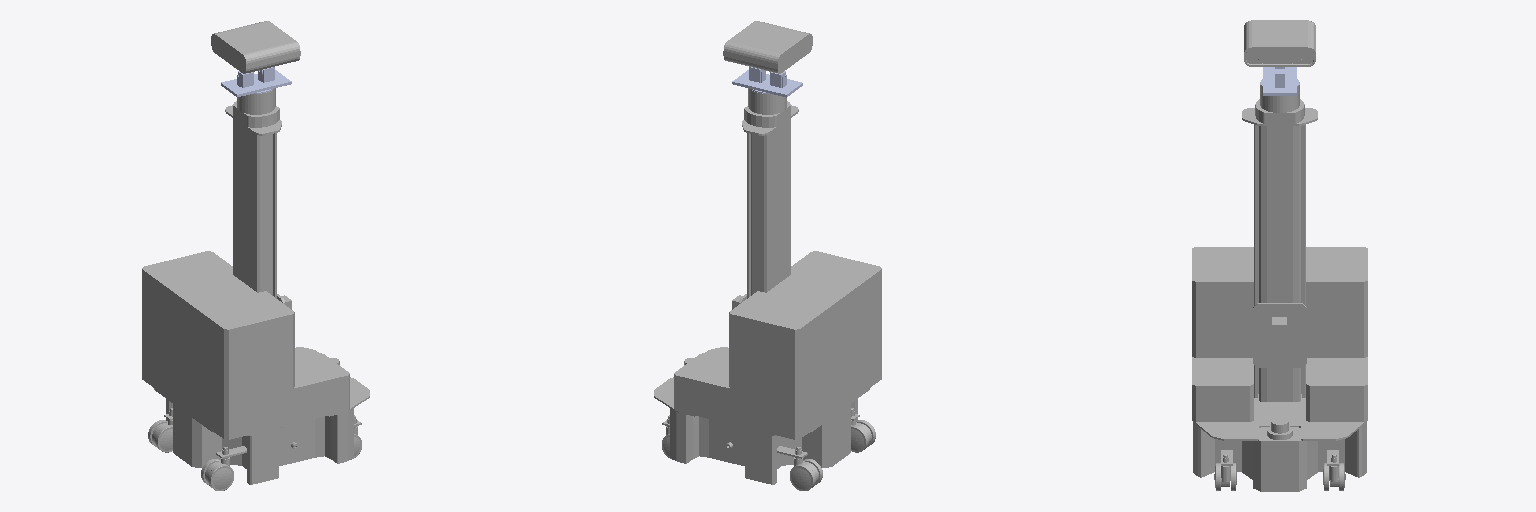
robot.urdf — MOMA_V3_URDF:
<?xml version="1.0" encoding="utf-8"?>
<!-- This URDF was automatically created by SolidWorks to URDF Exporter! Originally created by [author] ([email redacted]) 
     Commit Version: 1.5.1-0-g916b5db  Build Version: 1.5.7152.31018
     For more information, please see http://wiki.ros.org/sw_urdf_exporter -->
<robot
  name="MOMA_V3_URDF">
  <link
    name="moma_base_link">
    <inertial>
      <origin
        xyz="-0.0697248975605124 9.35986032827709E-05 0.185981353903013"
        rpy="0 0 0" />
      <mass
        value="64.9999523677222" />
      <inertia
        ixx="1.35069488959022"
        ixy="0.000479754719690261"
        ixz="1.48197273532436E-06"
        iyy="0.963094057696193"
        iyz="-7.03349014735604E-06"
        izz="1.34062606564175" />
    </inertial>
    <visual>
      <origin
        xyz="0 0 0"
        rpy="0 0 0" />
      <geometry>
        <mesh
          filename="package://minnav_moma_description/meshes/v3/moma_base_link.STL" />
      </geometry>
      <material
        name="">
        <color
          rgba="0.752941176470588 0.752941176470588 0.752941176470588 1" />
      </material>
    </visual>
    <collision>
      <origin
        xyz="0 0 0"
        rpy="0 0 0" />
      <geometry>
        <mesh
          filename="package://minnav_moma_description/meshes/v3/moma_base_link.STL" />
      </geometry>
    </collision>
  </link>
  <link
    name="ArmBase">
    <inertial>
      <origin
        xyz="0.0308551972687778 0.000943941891110974 -0.0272741114005047"
        rpy="0 0 0" />
      <mass
        value="0.713162476928903" />
      <inertia
        ixx="0.000996301117911692"
        ixy="-1.06604349141997E-06"
        ixz="6.18305224606402E-05"
        iyy="0.00152386550417795"
        iyz="8.35547600892191E-07"
        izz="0.00220534830451125" />
    </inertial>
    <visual>
      <origin
        xyz="0 0 0"
        rpy="0 0 0" />
      <geometry>
        <mesh
          filename="package://minnav_moma_description/meshes/v3/ArmBase.STL" />
      </geometry>
      <material
        name="">
        <color
          rgba="0.752941176470588 0.752941176470588 0.752941176470588 1" />
      </material>
    </visual>
    <collision>
      <origin
        xyz="0 0 0"
        rpy="0 0 0" />
      <geometry>
        <mesh
          filename="package://minnav_moma_description/meshes/v3/ArmBase.STL" />
      </geometry>
    </collision>
  </link>
  <joint
    name="JT_ArmBase"
    type="prismatic">
    <origin
      xyz="0.034 -0.001 0.33335"
      rpy="0 1.5708 0" />
    <parent
      link="moma_base_link" />
    <child
      link="ArmBase" />
    <axis
      xyz="-1 0 0" />
    <limit
      lower="0"
      upper="0.49"
      effort="0"
      velocity="0" />
  </joint>
  <link
    name="LIDAR">
    <inertial>
      <origin
        xyz="8.22216969754985E-05 0.0193654420160331 3.42716239184634E-09"
        rpy="0 0 0" />
      <mass
        value="0.102883853456169" />
      <inertia
        ixx="3.66225482144748E-05"
        ixy="1.05874120317964E-07"
        ixz="-3.58548250047766E-12"
        iyy="4.69758377443588E-05"
        iyz="-6.02604708198514E-13"
        izz="3.69805831442244E-05" />
    </inertial>
    <visual>
      <origin
        xyz="0 0 0"
        rpy="0 0 0" />
      <geometry>
        <mesh
          filename="package://minnav_moma_description/meshes/v3/LIDAR.STL" />
      </geometry>
      <material
        name="">
        <color
          rgba="0.752941176470588 0.752941176470588 0.752941176470588 1" />
      </material>
    </visual>
    <collision>
      <origin
        xyz="0 0 0"
        rpy="0 0 0" />
      <geometry>
        <mesh
          filename="package://minnav_moma_description/meshes/v3/LIDAR.STL" />
      </geometry>
    </collision>
  </link>
  <joint
    name="JT_LIDAR"
    type="fixed">
    <origin
      xyz="0.213 0 0.0905"
      rpy="1.5708 0 3.1416" />
    <parent
      link="moma_base_link" />
    <child
      link="LIDAR" />
    <axis
      xyz="0 0 0" />
  </joint>
  <link
    name="Pantilt_PanLink">
    <inertial>
      <origin
        xyz="9.46734950619818E-13 -6.93889390390723E-18 0.0222694936250953"
        rpy="0 0 0" />
      <mass
        value="0.125638006386443" />
      <inertia
        ixx="5.79840369760151E-05"
        ixy="-4.95095367264464E-09"
        ixz="1.2645288871398E-16"
        iyy="0.000158965664023198"
        iyz="1.00825085563714E-19"
        izz="0.000150893790612493" />
    </inertial>
    <visual>
      <origin
        xyz="0 0 0"
        rpy="0 0 0" />
      <geometry>
        <mesh
          filename="package://minnav_moma_description/meshes/v3/Pantilt_PanLink.STL" />
      </geometry>
      <material
        name="">
        <color
          rgba="0.796078431372549 0.823529411764706 0.937254901960784 1" />
      </material>
    </visual>
    <collision>
      <origin
        xyz="0 0 0"
        rpy="0 0 0" />
      <geometry>
        <mesh
          filename="package://minnav_moma_description/meshes/v3/Pantilt_PanLink.STL" />
      </geometry>
    </collision>
  </link>
  <joint
    name="JT_Pantilt_PanLink"
    type="continuous">
    <origin
      xyz="-0.021 0 1.0081"
      rpy="0 0 -1.5708" />
    <parent
      link="moma_base_link" />
    <child
      link="Pantilt_PanLink" />
    <axis
      xyz="0 0 1" />
  </joint>
  <link
    name="Pantilt_TiltLink">
    <inertial>
      <origin
        xyz="-1.01514245288246E-12 0.0313298843333751 1.19935311682084E-13"
        rpy="0 0 0" />
      <mass
        value="0.119003363420873" />
      <inertia
        ixx="7.90464190146044E-05"
        ixy="-3.7930308239447E-16"
        ixz="7.25178903267415E-19"
        iyy="0.000357984480289441"
        iyz="2.37464872755947E-16"
        izz="0.000282844133831591" />
    </inertial>
    <visual>
      <origin
        xyz="0 0 0"
        rpy="0 0 0" />
      <geometry>
        <mesh
          filename="package://minnav_moma_description/meshes/v3/Pantilt_TiltLink.STL" />
      </geometry>
      <material
        name="">
        <color
          rgba="0.796078431372549 0.823529411764706 0.937254901960784 1" />
      </material>
    </visual>
    <collision>
      <origin
        xyz="0 0 0"
        rpy="0 0 0" />
      <geometry>
        <mesh
          filename="package://minnav_moma_description/meshes/v3/Pantilt_TiltLink.STL" />
      </geometry>
    </collision>
  </link>
  <joint
    name="JT_Pantilt_TiltLink"
    type="continuous">
    <origin
      xyz="0 0.00025 0.0413"
      rpy="1.5708 0 3.1416" />
    <parent
      link="Pantilt_PanLink" />
    <child
      link="Pantilt_TiltLink" />
    <axis
      xyz="1 0 0" />
  </joint>
  <link
    name="Head">
    <inertial>
      <origin
        xyz="7.0065988965367E-06 -0.00259242159541651 -0.0752179059112314"
        rpy="0 0 0" />
      <mass
        value="0.398951265503435" />
      <inertia
        ixx="0.00086001336503175"
        ixy="-2.54365366746701E-08"
        ixz="1.01054446801158E-07"
        iyy="0.00182747472860193"
        iyz="5.23240564256016E-06"
        izz="0.00128462467137371" />
    </inertial>
    <visual>
      <origin
        xyz="0 0 0"
        rpy="0 0 0" />
      <geometry>
        <mesh
          filename="package://minnav_moma_description/meshes/v3/Head.STL" />
      </geometry>
      <material
        name="">
        <color
          rgba="0.752941176470588 0.752941176470588 0.752941176470588 1" />
      </material>
    </visual>
    <collision>
      <origin
        xyz="0 0 0"
        rpy="0 0 0" />
      <geometry>
        <mesh
          filename="package://minnav_moma_description/meshes/v3/Head.STL" />
      </geometry>
    </collision>
  </link>
  <joint
    name="JT_Head"
    type="fixed">
    <origin
      xyz="0 0.0705 0.0795"
      rpy="0 0 0" />
    <parent
      link="Pantilt_TiltLink" />
    <child
      link="Head" />
    <axis
      xyz="0 0 0" />
  </joint>
  <link
    name="UniwheelPivot_LF">
    <inertial>
      <origin
        xyz="-9.15933995315754E-16 0.0182260960322876 -0.0642291000155078"
        rpy="0 0 0" />
      <mass
        value="0.0847351495375796" />
      <inertia
        ixx="6.07135705376022E-05"
        ixy="1.38106507705782E-18"
        ixz="-6.2166420742629E-19"
        iyy="3.49474283390519E-05"
        iyz="1.16340041790674E-05"
        izz="3.34756139191196E-05" />
    </inertial>
    <visual>
      <origin
        xyz="0 0 0"
        rpy="0 0 0" />
      <geometry>
        <mesh
          filename="package://minnav_moma_description/meshes/v3/UniwheelPivot_LF.STL" />
      </geometry>
      <material
        name="">
        <color
          rgba="0.752941176470588 0.752941176470588 0.752941176470588 1" />
      </material>
    </visual>
    <collision>
      <origin
        xyz="0 0 0"
        rpy="0 0 0" />
      <geometry>
        <mesh
          filename="package://minnav_moma_description/meshes/v3/UniwheelPivot_LF.STL" />
      </geometry>
    </collision>
  </link>
  <joint
    name="JT_UniwheelPivot_LF"
    type="continuous">
    <origin
      xyz="0.2 0.1435 0.03085"
      rpy="0 0 1.5708" />
    <parent
      link="moma_base_link" />
    <child
      link="UniwheelPivot_LF" />
    <axis
      xyz="0 0 1" />
  </joint>
  <link
    name="UniWheel_LF">
    <inertial>
      <origin
        xyz="-1.68194530534294E-05 -2.14332612491486E-08 -0.000149066049960667"
        rpy="0 0 0" />
      <mass
        value="0.131455385710739" />
      <inertia
        ixx="4.67614248550021E-05"
        ixy="2.92736299193443E-11"
        ixz="-4.25507933619532E-11"
        iyy="8.85134139088377E-05"
        iyz="-1.15416487550843E-11"
        izz="4.67630636590922E-05" />
    </inertial>
    <visual>
      <origin
        xyz="0 0 0"
        rpy="0 0 0" />
      <geometry>
        <mesh
          filename="package://minnav_moma_description/meshes/v3/UniWheel_LF.STL" />
      </geometry>
      <material
        name="">
        <color
          rgba="0.752941176470588 0.752941176470588 0.752941176470588 1" />
      </material>
    </visual>
    <collision>
      <origin
        xyz="0 0 0"
        rpy="0 0 0" />
      <geometry>
        <mesh
          filename="package://minnav_moma_description/meshes/v3/UniWheel_LF.STL" />
      </geometry>
    </collision>
  </link>
  <joint
    name="JT_UniWheel_LF"
    type="continuous">
    <origin
      xyz="0 0.024 -0.07735"
      rpy="0 -0.11262 1.5708" />
    <parent
      link="UniwheelPivot_LF" />
    <child
      link="UniWheel_LF" />
    <axis
      xyz="0 1 0" />
  </joint>
  <link
    name="UniwheelPivot_RB">
    <inertial>
      <origin
        xyz="-9.71445146547012E-16 0.0182260960322876 -0.0642291000155078"
        rpy="0 0 0" />
      <mass
        value="0.0847351495375797" />
      <inertia
        ixx="6.07135705376022E-05"
        ixy="1.38480813148397E-18"
        ixz="-6.24596709306388E-19"
        iyy="3.4947428339052E-05"
        iyz="1.16340041790674E-05"
        izz="3.34756139191196E-05" />
    </inertial>
    <visual>
      <origin
        xyz="0 0 0"
        rpy="0 0 0" />
      <geometry>
        <mesh
          filename="package://minnav_moma_description/meshes/v3/UniwheelPivot_RB.STL" />
      </geometry>
      <material
        name="">
        <color
          rgba="0.752941176470588 0.752941176470588 0.752941176470588 1" />
      </material>
    </visual>
    <collision>
      <origin
        xyz="0 0 0"
        rpy="0 0 0" />
      <geometry>
        <mesh
          filename="package://minnav_moma_description/meshes/v3/UniwheelPivot_RB.STL" />
      </geometry>
    </collision>
  </link>
  <joint
    name="JT_UniwheelPivot_RB"
    type="continuous">
    <origin
      xyz="-0.2 -0.1435 0.03085"
      rpy="0 0 1.5708" />
    <parent
      link="moma_base_link" />
    <child
      link="UniwheelPivot_RB" />
    <axis
      xyz="0 0 1" />
  </joint>
  <link
    name="Uniwheel_RB">
    <inertial>
      <origin
        xyz="-1.68194530534294E-05 -2.14332611658818E-08 -0.000149066049960678"
        rpy="0 0 0" />
      <mass
        value="0.131455385710739" />
      <inertia
        ixx="4.67614248550014E-05"
        ixy="2.92736298994454E-11"
        ixz="-4.25507933348482E-11"
        iyy="8.85134139088376E-05"
        iyz="-1.15416487597378E-11"
        izz="4.67630636590914E-05" />
    </inertial>
    <visual>
      <origin
        xyz="0 0 0"
        rpy="0 0 0" />
      <geometry>
        <mesh
          filename="package://minnav_moma_description/meshes/v3/Uniwheel_RB.STL" />
      </geometry>
      <material
        name="">
        <color
          rgba="0.752941176470588 0.752941176470588 0.752941176470588 1" />
      </material>
    </visual>
    <collision>
      <origin
        xyz="0 0 0"
        rpy="0 0 0" />
      <geometry>
        <mesh
          filename="package://minnav_moma_description/meshes/v3/Uniwheel_RB.STL" />
      </geometry>
    </collision>
  </link>
  <joint
    name="JT_Uniwheel_RB"
    type="continuous">
    <origin
      xyz="0 0.024 -0.07735"
      rpy="0 -0.11262 1.5708" />
    <parent
      link="UniwheelPivot_RB" />
    <child
      link="Uniwheel_RB" />
    <axis
      xyz="0 1 0" />
  </joint>
  <link
    name="UniwheelPivot_RF">
    <inertial>
      <origin
        xyz="-9.43689570931383E-16 0.0182260960322876 -0.0642291000155078"
        rpy="0 0 0" />
      <mass
        value="0.0847351495375797" />
      <inertia
        ixx="6.07135705376022E-05"
        ixy="1.38743110380241E-18"
        ixz="-6.26758647323962E-19"
        iyy="3.4947428339052E-05"
        iyz="1.16340041790674E-05"
        izz="3.34756139191196E-05" />
    </inertial>
    <visual>
      <origin
        xyz="0 0 0"
        rpy="0 0 0" />
      <geometry>
        <mesh
          filename="package://minnav_moma_description/meshes/v3/UniwheelPivot_RF.STL" />
      </geometry>
      <material
        name="">
        <color
          rgba="0.752941176470588 0.752941176470588 0.752941176470588 1" />
      </material>
    </visual>
    <collision>
      <origin
        xyz="0 0 0"
        rpy="0 0 0" />
      <geometry>
        <mesh
          filename="package://minnav_moma_description/meshes/v3/UniwheelPivot_RF.STL" />
      </geometry>
    </collision>
  </link>
  <joint
    name="JT_UniwheelPivot_RF"
    type="continuous">
    <origin
      xyz="0.2 -0.1435 0.03085"
      rpy="0 0 1.5708" />
    <parent
      link="moma_base_link" />
    <child
      link="UniwheelPivot_RF" />
    <axis
      xyz="0 0 1" />
  </joint>
  <link
    name="Uniwheel_RF">
    <inertial>
      <origin
        xyz="-1.68194530534849E-05 -2.14332612491486E-08 -0.000149066049960633"
        rpy="0 0 0" />
      <mass
        value="0.131455385710739" />
      <inertia
        ixx="4.67614248550019E-05"
        ixy="2.92736298839029E-11"
        ixz="-4.25507933712706E-11"
        iyy="8.85134139088377E-05"
        iyz="-1.15416487509904E-11"
        izz="4.67630636590919E-05" />
    </inertial>
    <visual>
      <origin
        xyz="0 0 0"
        rpy="0 0 0" />
      <geometry>
        <mesh
          filename="package://minnav_moma_description/meshes/v3/Uniwheel_RF.STL" />
      </geometry>
      <material
        name="">
        <color
          rgba="0.752941176470588 0.752941176470588 0.752941176470588 1" />
      </material>
    </visual>
    <collision>
      <origin
        xyz="0 0 0"
        rpy="0 0 0" />
      <geometry>
        <mesh
          filename="package://minnav_moma_description/meshes/v3/Uniwheel_RF.STL" />
      </geometry>
    </collision>
  </link>
  <joint
    name="JT_Uniwheel_RF"
    type="continuous">
    <origin
      xyz="0 0.024 -0.07735"
      rpy="0 -0.112621897187537 1.57079632679495" />
    <parent
      link="UniwheelPivot_RF" />
    <child
      link="Uniwheel_RF" />
    <axis
      xyz="0 1 0" />
  </joint>
  <link
    name="UniwheelPivot_LB">
    <inertial>
      <origin
        xyz="2.77555756156289E-17 0.0182260960322876 -0.0642291000155078"
        rpy="0 0 0" />
      <mass
        value="0.0847351495375796" />
      <inertia
        ixx="6.07135705376022E-05"
        ixy="3.5793788830815E-20"
        ixz="-1.45373064569161E-20"
        iyy="3.4947428339052E-05"
        iyz="1.16340041790674E-05"
        izz="3.34756139191196E-05" />
    </inertial>
    <visual>
      <origin
        xyz="0 0 0"
        rpy="0 0 0" />
      <geometry>
        <mesh
          filename="package://minnav_moma_description/meshes/v3/UniwheelPivot_LB.STL" />
      </geometry>
      <material
        name="">
        <color
          rgba="0.752941176470588 0.752941176470588 0.752941176470588 1" />
      </material>
    </visual>
    <collision>
      <origin
        xyz="0 0 0"
        rpy="0 0 0" />
      <geometry>
        <mesh
          filename="package://minnav_moma_description/meshes/v3/UniwheelPivot_LB.STL" />
      </geometry>
    </collision>
  </link>
  <joint
    name="JT_UniwheelPivot_LB"
    type="continuous">
    <origin
      xyz="-0.2 0.1435 0.03085"
      rpy="0 0 1.5708" />
    <parent
      link="moma_base_link" />
    <child
      link="UniwheelPivot_LB" />
    <axis
      xyz="0 0 1" />
  </joint>
  <link
    name="Uniwheel_LB">
    <inertial>
      <origin
        xyz="-1.68194530534849E-05 -2.1433261221393E-08 -0.000149066049960664"
        rpy="0 0 0" />
      <mass
        value="0.131455385710739" />
      <inertia
        ixx="4.67614248550014E-05"
        ixy="2.92736298993967E-11"
        ixz="-4.25507933356952E-11"
        iyy="8.85134139088376E-05"
        iyz="-1.15416487599895E-11"
        izz="4.67630636590915E-05" />
    </inertial>
    <visual>
      <origin
        xyz="0 0 0"
        rpy="0 0 0" />
      <geometry>
        <mesh
          filename="package://minnav_moma_description/meshes/v3/Uniwheel_LB.STL" />
      </geometry>
      <material
        name="">
        <color
          rgba="0.752941176470588 0.752941176470588 0.752941176470588 1" />
      </material>
    </visual>
    <collision>
      <origin
        xyz="0 0 0"
        rpy="0 0 0" />
      <geometry>
        <mesh
          filename="package://minnav_moma_description/meshes/v3/Uniwheel_LB.STL" />
      </geometry>
    </collision>
  </link>
  <joint
    name="JT_Uniwheel_LB"
    type="continuous">
    <origin
      xyz="0 0.024 -0.07735"
      rpy="0 -0.112621897187537 1.5707963267949" />
    <parent
      link="UniwheelPivot_LB" />
    <child
      link="Uniwheel_LB" />
    <axis
      xyz="0 1 0" />
  </joint>
  <link
    name="DriWheel_L">
    <inertial>
      <origin
        xyz="0.0316538399728968 1.25157353600119E-08 -5.05093808177879E-09"
        rpy="0 0 0" />
      <mass
        value="0.617725202733258" />
      <inertia
        ixx="0.0013728961373634"
        ixy="-1.42117906446992E-09"
        ixz="2.42189453861375E-09"
        iyy="0.000769266097737994"
        iyz="8.57135076868556E-09"
        izz="0.000769249258744697" />
    </inertial>
    <visual>
      <origin
        xyz="0 0 0"
        rpy="0 0 0" />
      <geometry>
        <mesh
          filename="package://minnav_moma_description/meshes/v3/DriWheel_L.STL" />
      </geometry>
      <material
        name="">
        <color
          rgba="0.752941176470588 0.752941176470588 0.752941176470588 1" />
      </material>
    </visual>
    <collision>
      <origin
        xyz="0 0 0"
        rpy="0 0 0" />
      <geometry>
        <mesh
          filename="package://minnav_moma_description/meshes/v3/DriWheel_L.STL" />
      </geometry>
    </collision>
  </link>
  <joint
    name="JT_DriWheel_L"
    type="continuous">
    <origin
      xyz="0 0.1711 0"
      rpy="1.5708 0 1.5708" />
    <parent
      link="moma_base_link" />
    <child
      link="DriWheel_L" />
    <axis
      xyz="1 0 0" />
  </joint>
  <link
    name="DriWheel_R">
    <inertial>
      <origin
        xyz="-0.0316538399728968 1.25157353677965E-08 5.05093810271229E-09"
        rpy="0 0 0" />
      <mass
        value="0.61772520273326" />
      <inertia
        ixx="0.00137289613736341"
        ixy="1.42117906477149E-09"
        ixz="2.42189453862747E-09"
        iyy="0.000769266097737998"
        iyz="-8.57135076860845E-09"
        izz="0.000769249258744701" />
    </inertial>
    <visual>
      <origin
        xyz="0 0 0"
        rpy="0 0 0" />
      <geometry>
        <mesh
          filename="package://minnav_moma_description/meshes/v3/DriWheel_R.STL" />
      </geometry>
      <material
        name="">
        <color
          rgba="0.752941176470588 0.752941176470588 0.752941176470588 1" />
      </material>
    </visual>
    <collision>
      <origin
        xyz="0 0 0"
        rpy="0 0 0" />
      <geometry>
        <mesh
          filename="package://minnav_moma_description/meshes/v3/DriWheel_R.STL" />
      </geometry>
    </collision>
  </link>
  <joint
    name="JT_DriWheel_R"
    type="continuous">
    <origin
      xyz="0 -0.171100000000101 0"
      rpy="1.5707963267949 0 1.5707963267949" />
    <parent
      link="moma_base_link" />
    <child
      link="DriWheel_R" />
    <axis
      xyz="1 0 0" />
  </joint>
</robot>

--- Render facts (derived) ---
Views: 3 orthographic renders of the robot side by side, from view 1: azimuth 30°, elevation 25°; view 2: azimuth 150°, elevation 25°; view 3: azimuth 270°, elevation 25°.
Robot: MOMA_V3_URDF — 16 links, 15 joints (12 continuous, 1 prismatic, 2 fixed); root link moma_base_link; default pose: all joints at 0.
Links seen in each view (by area): view 1: moma_base_link, Head, Pantilt_TiltLink, Uniwheel_RB, Uniwheel_LB; view 2: moma_base_link, Head, Pantilt_TiltLink, Uniwheel_LB, Uniwheel_RB; view 3: moma_base_link, ArmBase, Head, Pantilt_TiltLink.
Boxes of the visible links, bbox=[...] form: moma_base_link: bbox=[142, 88, 369, 484]; Head: bbox=[211, 21, 300, 73]; Pantilt_TiltLink: bbox=[221, 70, 291, 96]; Uniwheel_RB: bbox=[201, 459, 233, 490]; Uniwheel_LB: bbox=[148, 420, 172, 452]; moma_base_link: bbox=[654, 88, 881, 484]; Head: bbox=[723, 21, 812, 73]; Pantilt_TiltLink: bbox=[732, 70, 802, 97]; Uniwheel_LB: bbox=[790, 459, 822, 490]; Uniwheel_RB: bbox=[851, 420, 875, 452]; moma_base_link: bbox=[1192, 82, 1367, 491]; ArmBase: bbox=[1253, 303, 1306, 367]; Head: bbox=[1244, 20, 1315, 66]; Pantilt_TiltLink: bbox=[1263, 67, 1296, 95].
Bounding box of the posed robot: 0.5115 × 0.466 × 1.24 m (x, y, z).
Meshes: 16 distinct files referenced, 14 mesh visuals loaded (14 binary STL); not drawn: 2 (reference not matched to a file when rendering).